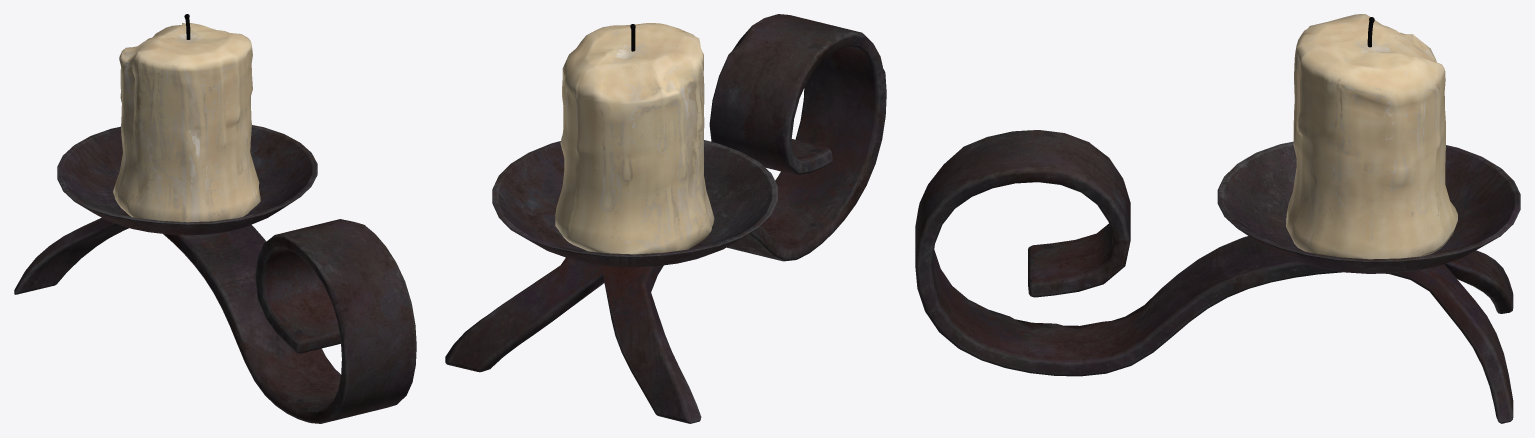
Rendered from CANDLE_4.obj.
The picture shows the model from 3 angles, left to right: view 1: azimuth 30°, elevation 25°; view 2: azimuth 150°, elevation 25°; view 3: azimuth 270°, elevation 25°; orthographic projection. The views are drawn at different scales.
Visible parts, largest first — view 1: object_0; view 2: object_0; view 3: object_0.
Boxes of the visible parts, <box> form: object_0: <box>14,14,416,423</box>; object_0: <box>445,14,886,423</box>; object_0: <box>915,14,1520,423</box>.
Size of the model in its own units: 10.68 by 12.84 by 20.62.
